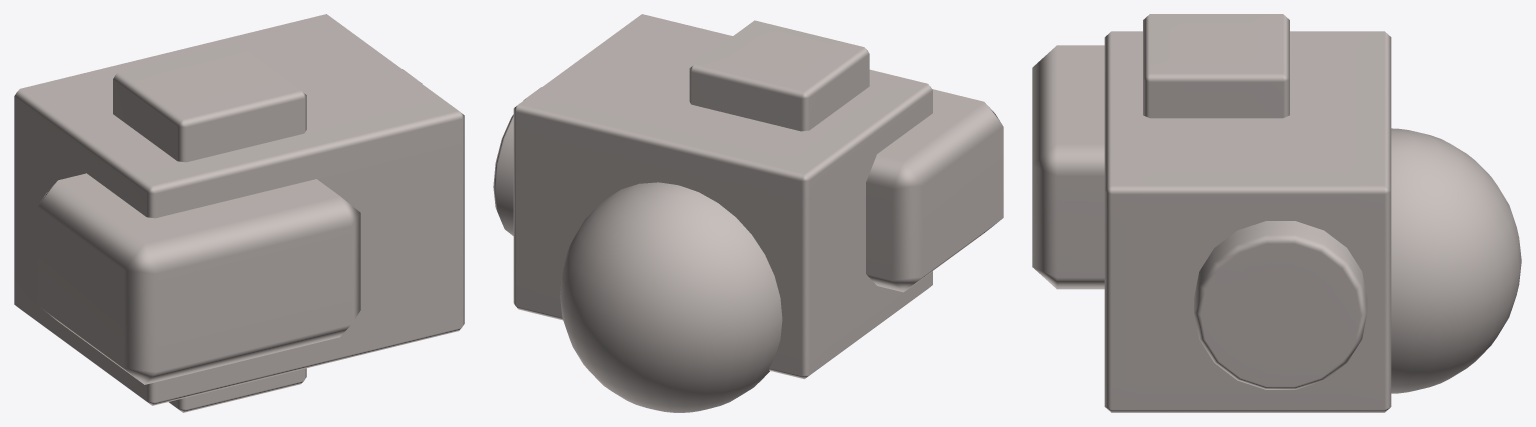
Rendered from CubeTest.FBX.
The picture shows the model from 3 angles, left to right: view 1: azimuth 30°, elevation 25°; view 2: azimuth 150°, elevation 25°; view 3: azimuth 270°, elevation 25°; orthographic projection. The views are drawn at different scales.
Visible parts, largest first — view 1: Box006; view 2: Box006; view 3: Box006.
Boxes of the visible parts, box(x1,y1,x2,y2) form: Box006: box(14, 14, 464, 412); Box006: box(493, 14, 1003, 412); Box006: box(1032, 14, 1521, 412).
Size of the model in its own units: 7.08 by 5.34 by 7.26.
1 material, 1 textured.
